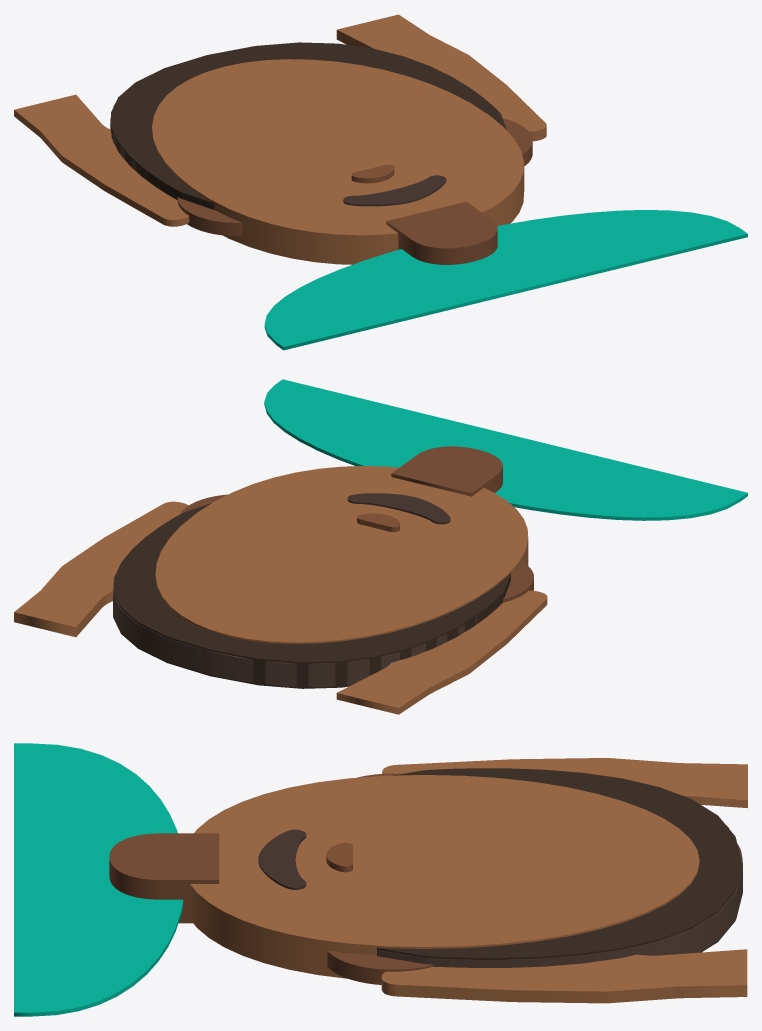
File: emoji_u1f486_1f3fe_200d_2642.glb
3 views of the same model, one above another, from view 1: azimuth 30°, elevation 25°; view 2: azimuth 150°, elevation 25°; view 3: azimuth 270°, elevation 25° (orthographic). The views are drawn at different scales.
Visible parts, largest first — view 1: emoji_u1f486_1f3fe_200d_2642; view 2: emoji_u1f486_1f3fe_200d_2642; view 3: emoji_u1f486_1f3fe_200d_2642.
Part boxes in pixels (left/top/right/bottom): emoji_u1f486_1f3fe_200d_2642: left=14, top=14, right=747, bottom=350; emoji_u1f486_1f3fe_200d_2642: left=14, top=379, right=747, bottom=714; emoji_u1f486_1f3fe_200d_2642: left=14, top=743, right=747, bottom=1016.
Size of the model in its own units: 0.0294 by 0.0024 by 0.0338.
